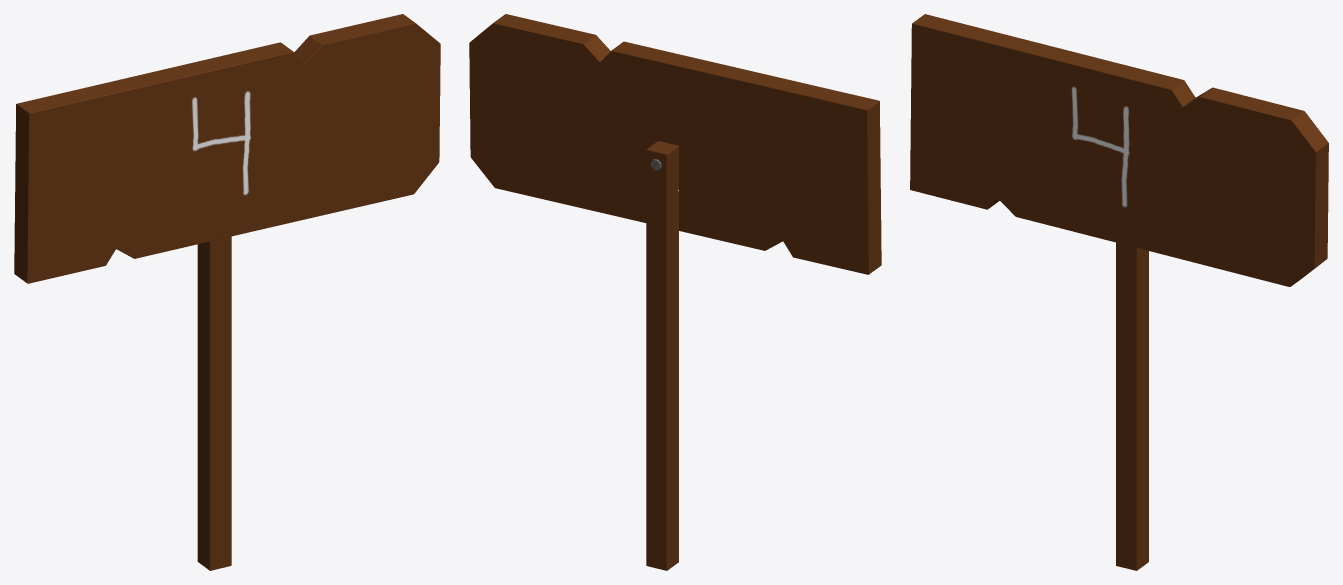
Rendered from sign3.fbx.
3 renders of one model, left to right at view 1: azimuth 30°, elevation 25°; view 2: azimuth 150°, elevation 25°; view 3: azimuth 330°, elevation 25°, orthographic. The views are drawn at different scales.
Visible parts, largest first — view 1: Sign 3; view 2: Sign 3; view 3: Sign 3.
Boxes of the visible parts, x1=… form: Sign 3: x1=14, y1=14, x2=440, y2=570; Sign 3: x1=469, y1=14, x2=881, y2=570; Sign 3: x1=910, y1=14, x2=1328, y2=570.
Size of the model in its own units: 201 by 239 by 22.77.
